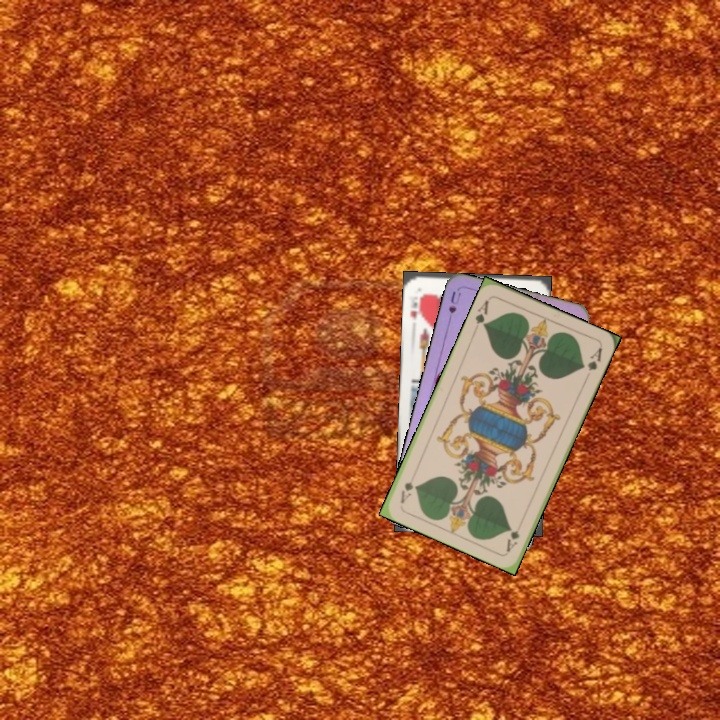GA: (502, 516, 526, 554), (471, 296, 492, 330)
HK: (405, 289, 425, 322)
SU: (444, 287, 464, 327)
